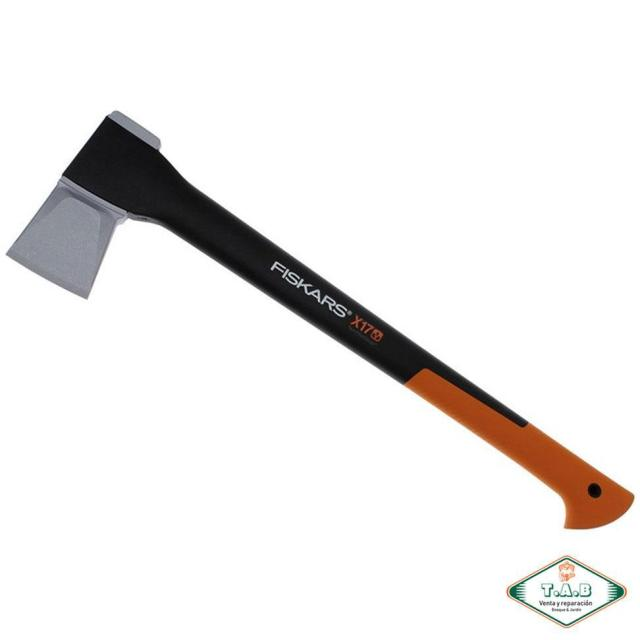Kapak: (21, 102, 618, 540)
